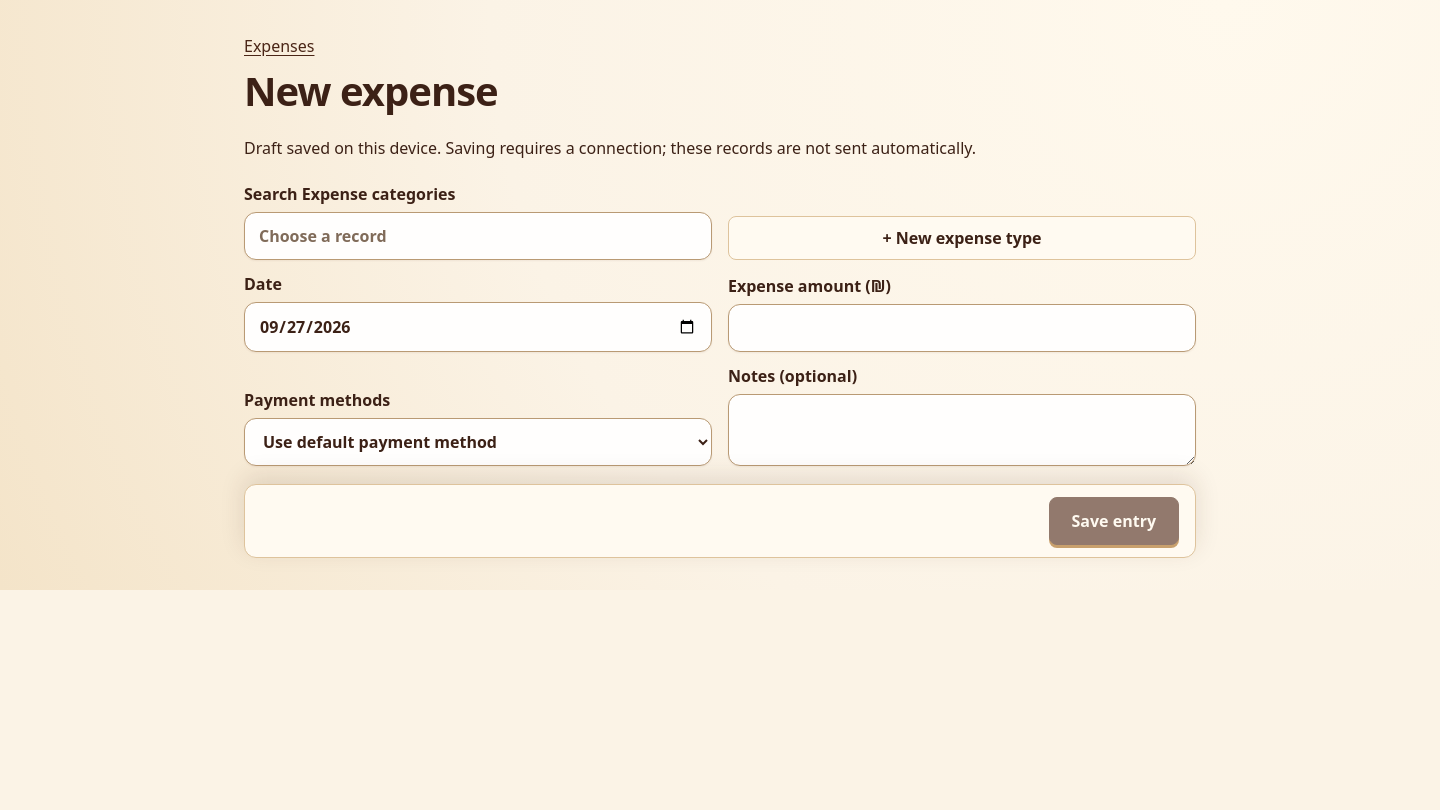
Test case: creates a new expense type on the entry page and selects it
The width and height of the screenshot is (1440, 810).
Click the button "+ New expense type". click: (962, 238)
box: [728,216,1196,260]
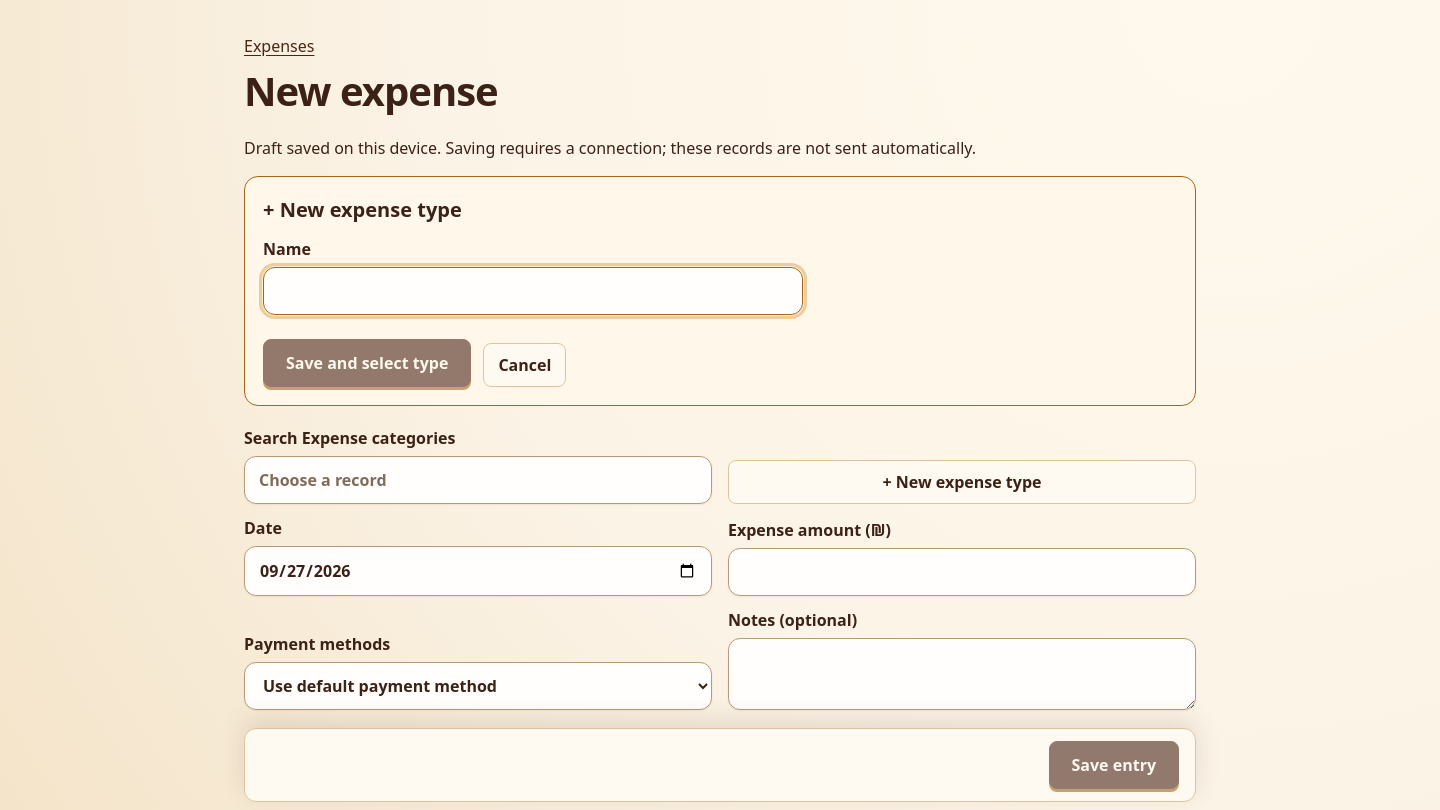
Type "Delivery" into the field labelled "Name". click: (533, 291)
box: [263,267,803,315]
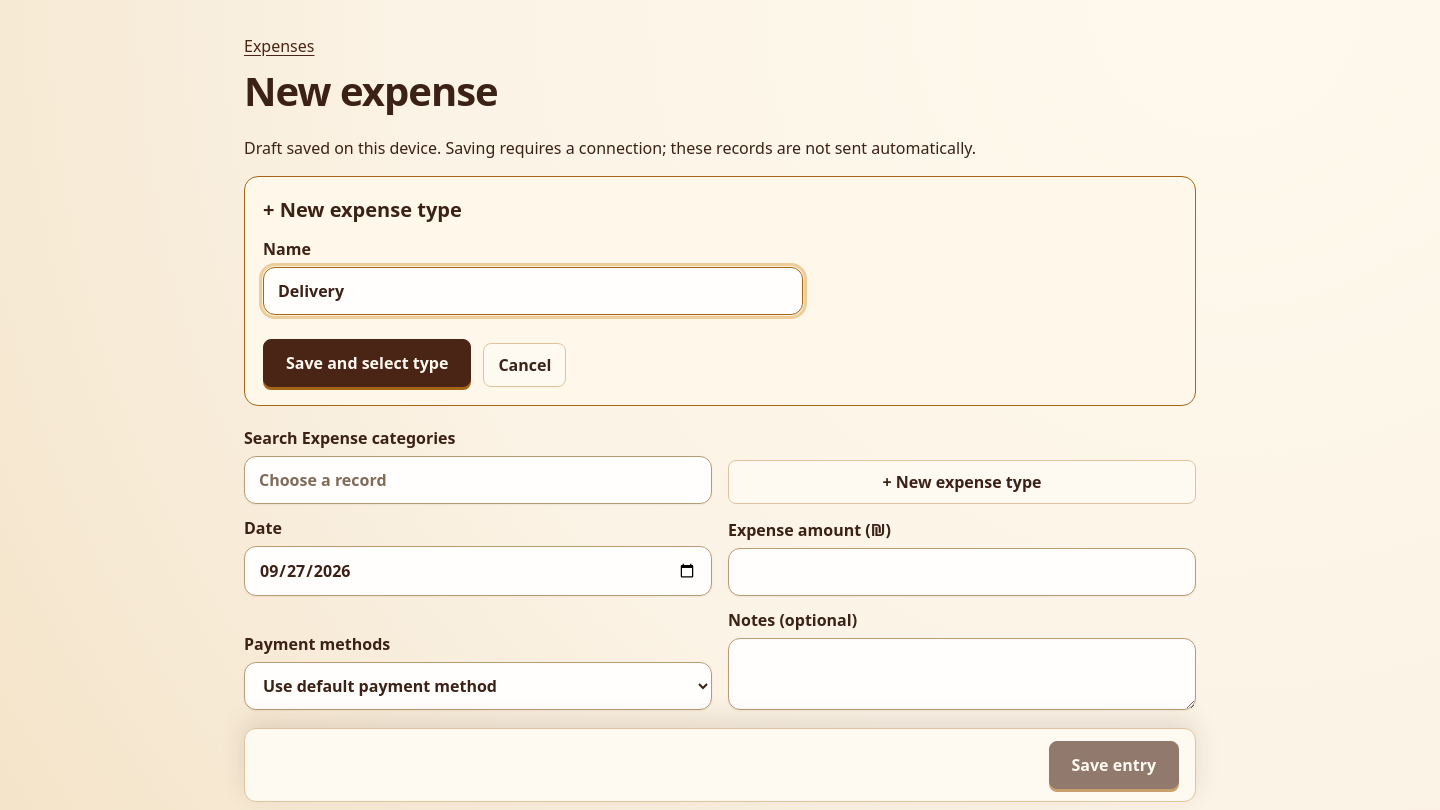
Click the button "Save and select type". click: (367, 363)
box: [263,339,471,387]
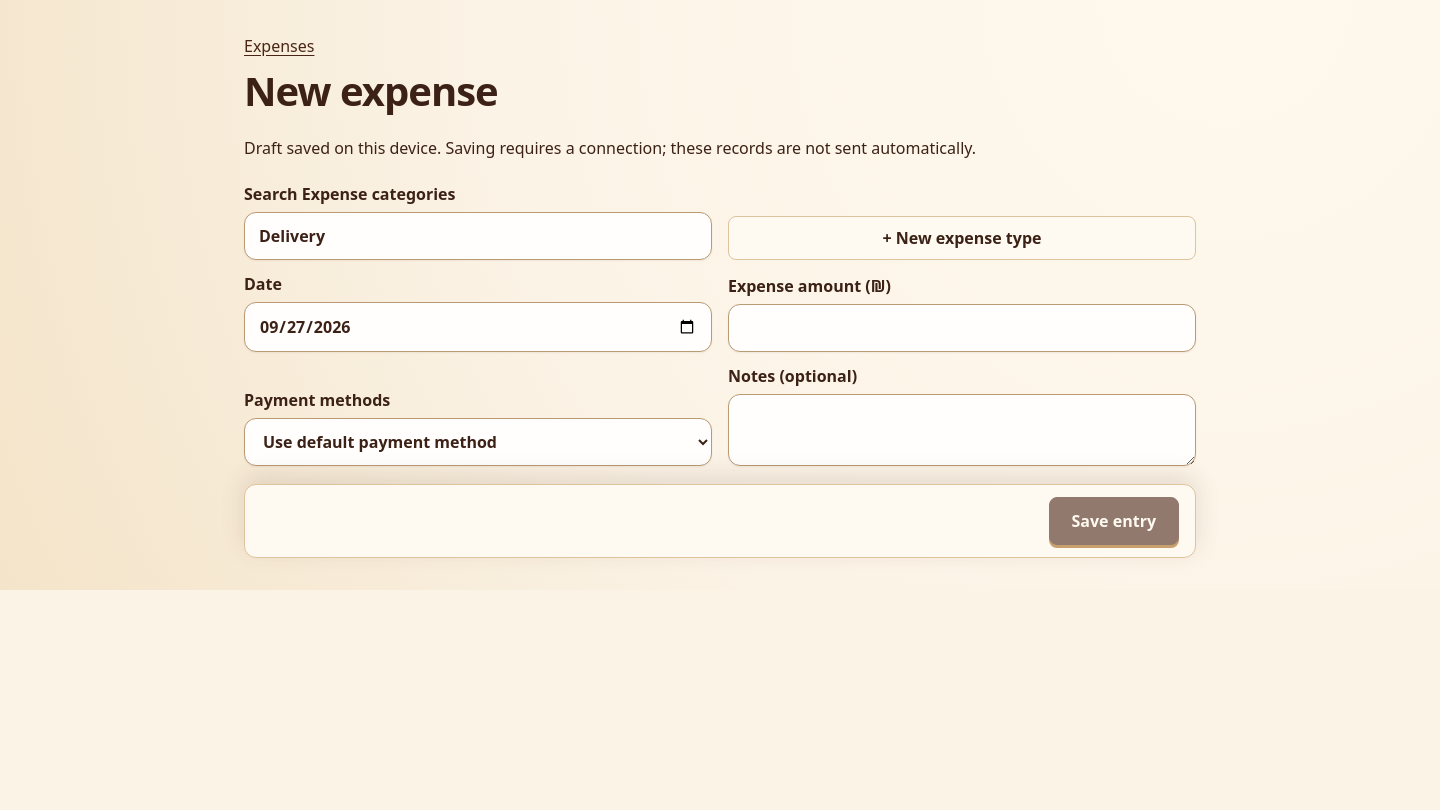
Now the dropdown labelled "Search Expense categories" holds "Delivery", box [244,212,712,260]
